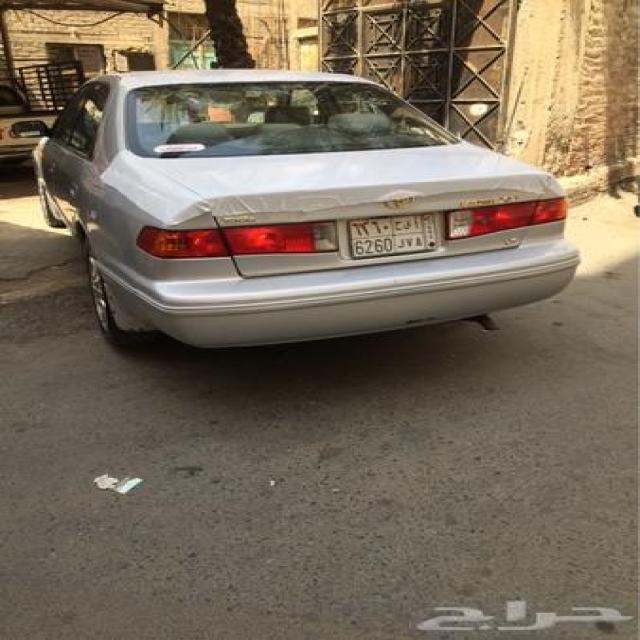license_plate: (345, 209, 441, 262)
